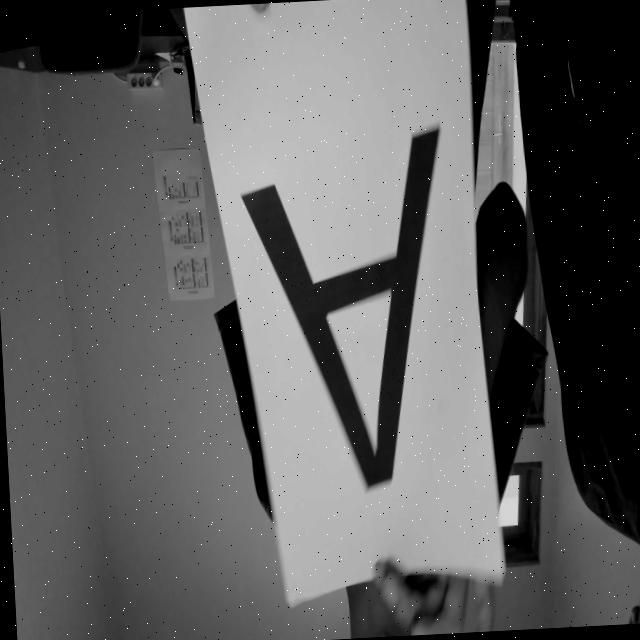a: (237, 120, 462, 500)
